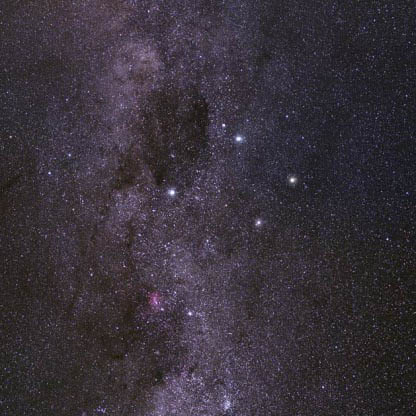Southern Cross: (159, 178, 181, 203), (284, 169, 305, 190), (228, 129, 247, 150), (249, 214, 267, 236)
